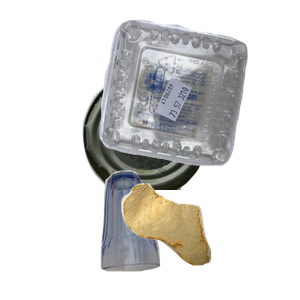glass: (98, 168, 251, 300)
metal: (80, 68, 284, 248)
plastic: (97, 17, 300, 176)
trash: (119, 181, 300, 300)
